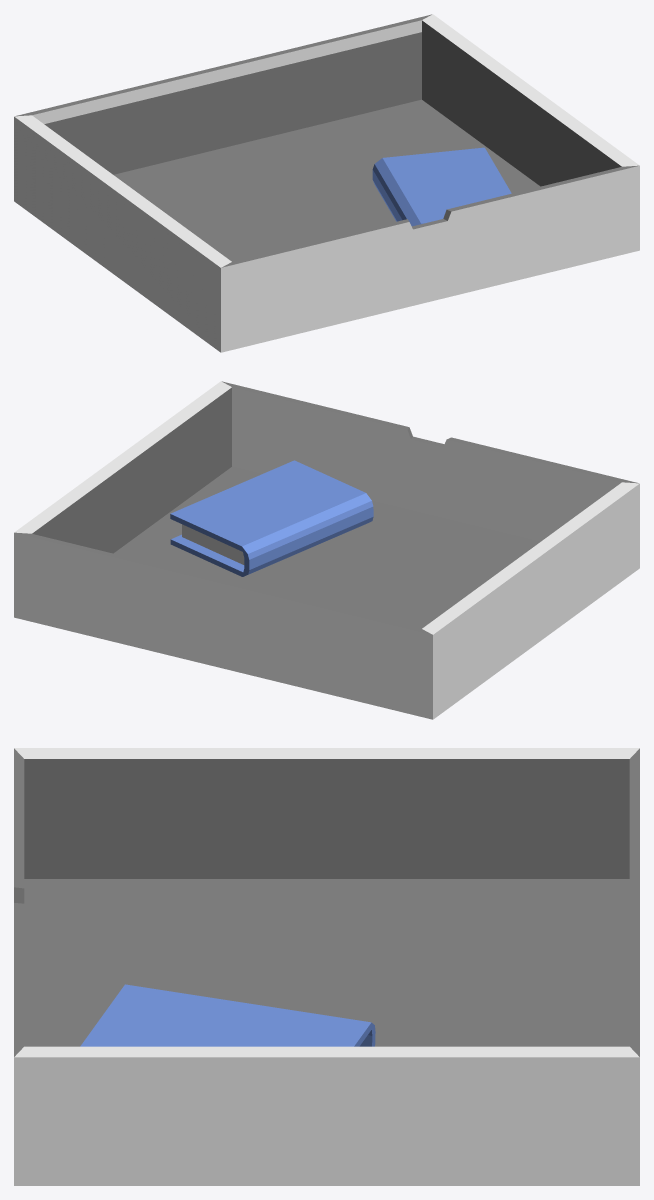
The model's file is drawer.glb.
The picture shows the model from 3 angles, top to bottom: view 1: azimuth 30°, elevation 25°; view 2: azimuth 150°, elevation 25°; view 3: azimuth 270°, elevation 25°; orthographic projection. The views are drawn at different scales.
Parts seen in each view (by area): view 1: drawer, drawerbook; view 2: drawer, drawerbook; view 3: drawer, drawerbook.
Boxes of the visible parts, x1=… form: drawer: x1=14, y1=14, x2=639, y2=352; drawerbook: x1=372, y1=147, x2=511, y2=226; drawer: x1=14, y1=381, x2=639, y2=719; drawerbook: x1=170, y1=460, x2=373, y2=576; drawer: x1=14, y1=748, x2=639, y2=1185; drawerbook: x1=80, y1=984, x2=375, y2=1046.
Size of the model in its own units: 2.15 by 0.4171 by 1.84.
